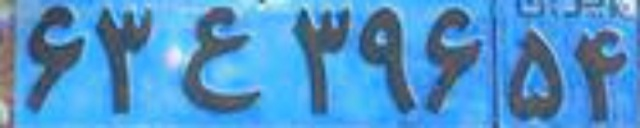3: (284, 4, 351, 113), (94, 4, 157, 112)
4: (574, 29, 629, 122)
5: (505, 27, 563, 118)
6: (17, 5, 82, 111), (425, 9, 483, 114)
9: (358, 6, 418, 113)
ain: (181, 7, 259, 112)
